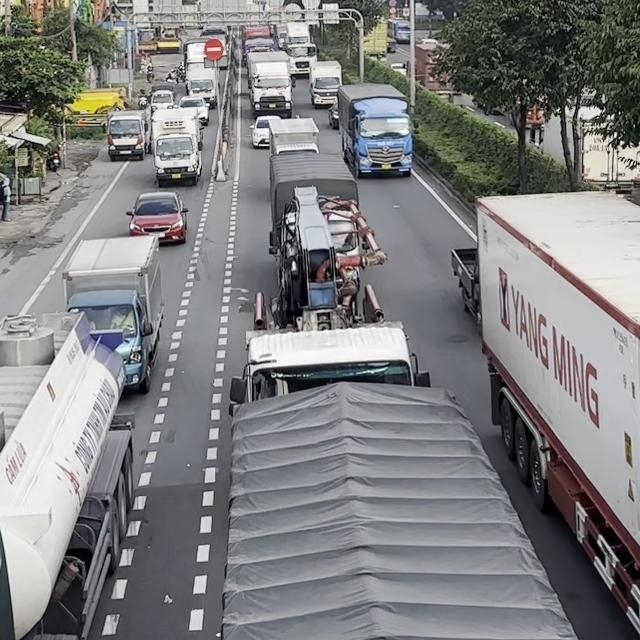car: (125, 191, 189, 244)
truck: (471, 188, 639, 639), (230, 155, 433, 402), (0, 309, 135, 639), (61, 233, 164, 393), (333, 82, 413, 179), (149, 108, 202, 187), (246, 50, 295, 119), (106, 104, 150, 162), (267, 115, 320, 156), (307, 59, 342, 108)
